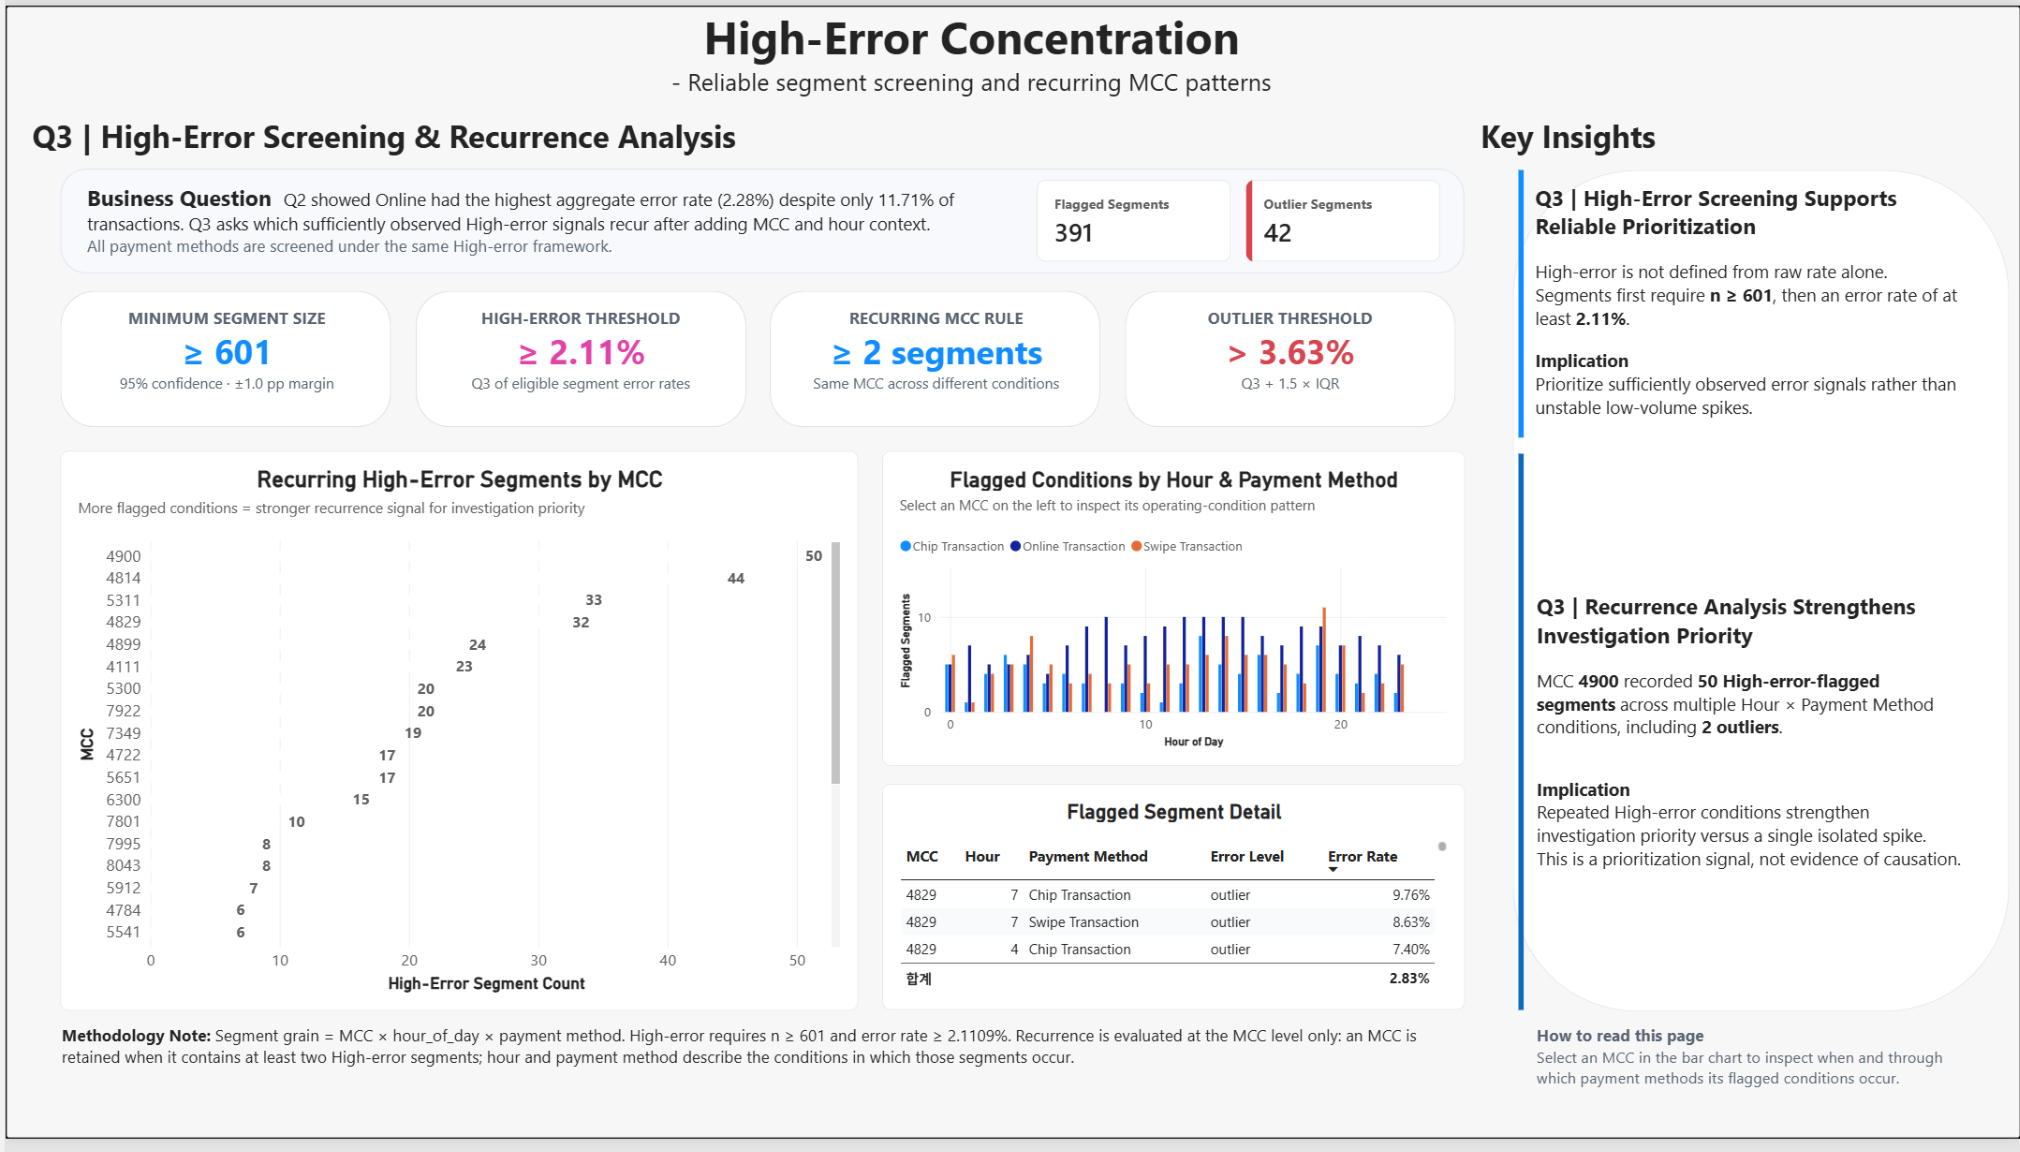

The dashboard page shown, as its layout file describes it:
{"tool":"powerbi","page":{"name":"03 High-Error Concentration","canvas":[1920,1080],"ordinal":2},"visuals":[{"type":"textbox","box":[482,0,877,113.3],"z":0},{"type":"textbox","box":[25.4,104.4,1365.1,52.2],"z":4000},{"type":"textbox","box":[1405.8,104.2,473,51.7],"z":5500},{"type":"shape","box":[52.6,155.7,1337.7,100],"z":6000},{"type":"textbox","box":[77,169,870,77],"z":6100},{"type":"shape","box":[52.6,272,315,130],"z":6200},{"type":"shape","box":[390.6,272,315,130],"z":6210},{"type":"shape","box":[728.6,272,315,130],"z":6220},{"type":"shape","box":[1066.6,272,315,130],"z":6230},{"type":"textbox","box":[67.6,286,285,102],"z":6250},{"type":"textbox","box":[405.6,286,285,102],"z":6260},{"type":"textbox","box":[743.6,286,285,102],"z":6270},{"type":"textbox","box":[1081.6,286,285,102],"z":6280},{"type":"shape","box":[1436,156.6,473,802],"z":6500},{"type":"textbox","box":[1457.4,168.6,405.5,299.8],"z":7000},{"type":"clusteredBarChart","title":"Recurring High-Error Segments by MCC","fields":{"Category":["Q4 Segment Analysis.mcc"],"Y":["Dax_Measures.Flagged Segment Count"]},"box":[52.6,424,760,533],"z":7000},{"type":"clusteredColumnChart","title":"Flagged Conditions by Hour & Payment Method","fields":{"Category":["Q4 Segment Analysis.hour_of_day"],"Series":["Q4 Segment Analysis.use_chip"],"Y":["Dax_Measures.Flagged Segment Count"]},"box":[835,424,555,300],"z":7100},{"type":"textbox","box":[1458.7,558.1,405,275],"z":7100},{"type":"textbox","box":[1458.7,970.3,405,80],"z":7150},{"type":"shape","box":[1441.3,156.6,5,255],"z":7200},{"type":"tableEx","title":"Flagged Segment Detail","fields":{"Values":["Q4 Segment Analysis.mcc","Q4 Segment Analysis.hour_of_day","Q4 Segment Analysis.use_chip","Q4 Segment Analysis.error_level","Dax_Measures.Flagged Error Rate"]},"box":[835.1,741.4,555.4,215.5],"z":7200},{"type":"shape","box":[1441.3,426.9,5,530],"z":7300},{"type":"textbox","box":[53,970,1337,70],"z":7300},{"type":"cardVisual","fields":{"Data":["Dax_Measures.Flagged Segment Count"]},"box":[977.1,165.7,190,78.6],"z":7600},{"type":"cardVisual","fields":{"Data":["Dax_Measures.Outlier Segment Count"]},"box":[1182,166,185,78],"z":7700}]}

Visuals, with their boxes in screenshot pixels (x1, y1, x2, y2), scaled from the page's 1920x1080 canvas onto the 2020x1152 screenshot:
textbox: region(507, 0, 1430, 121)
textbox: region(27, 111, 1463, 167)
textbox: region(1479, 111, 1977, 166)
shape: region(55, 166, 1463, 273)
textbox: region(81, 180, 996, 262)
shape: region(55, 290, 387, 429)
shape: region(411, 290, 742, 429)
shape: region(767, 290, 1098, 429)
shape: region(1122, 290, 1454, 429)
textbox: region(71, 305, 371, 414)
textbox: region(427, 305, 727, 414)
textbox: region(782, 305, 1082, 414)
textbox: region(1138, 305, 1438, 414)
shape: region(1511, 167, 2008, 1023)
textbox: region(1533, 180, 1960, 500)
"Recurring High-Error Segments by MCC" clusteredBarChart: region(55, 452, 855, 1021)
"Flagged Conditions by Hour & Payment Method" clusteredColumnChart: region(878, 452, 1462, 772)
textbox: region(1535, 595, 1961, 889)
textbox: region(1535, 1035, 1961, 1120)
shape: region(1516, 167, 1522, 439)
"Flagged Segment Detail" tableEx: region(879, 791, 1463, 1021)
shape: region(1516, 455, 1522, 1021)
textbox: region(56, 1035, 1462, 1109)
cardVisual - Dax_Measures.Flagged Segment Count: region(1028, 177, 1228, 261)
cardVisual - Dax_Measures.Outlier Segment Count: region(1244, 177, 1438, 260)
